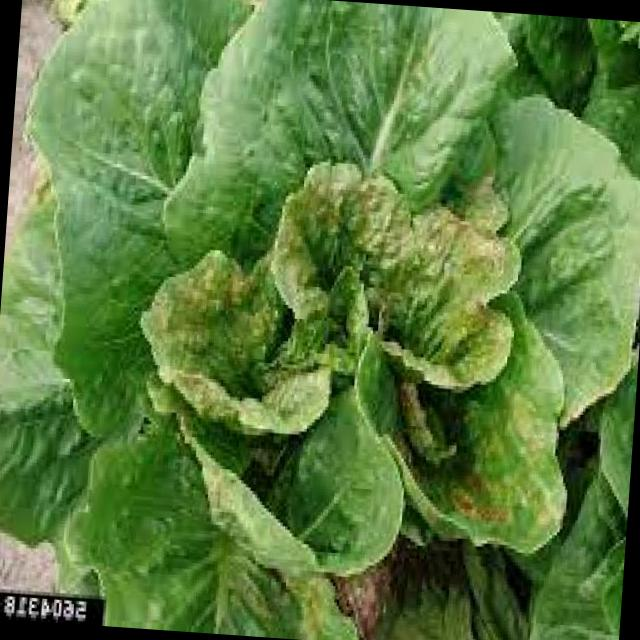Powdery_Mildew: (130, 90, 584, 551)
